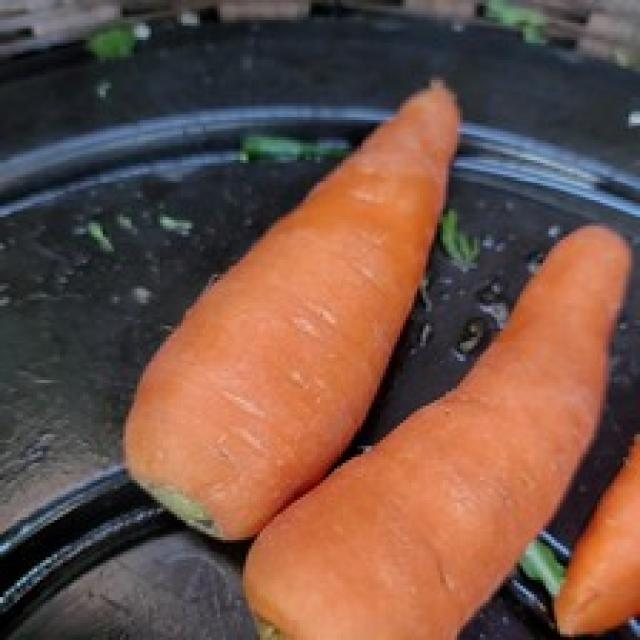carrot: (125, 75, 470, 539), (252, 217, 628, 640)
